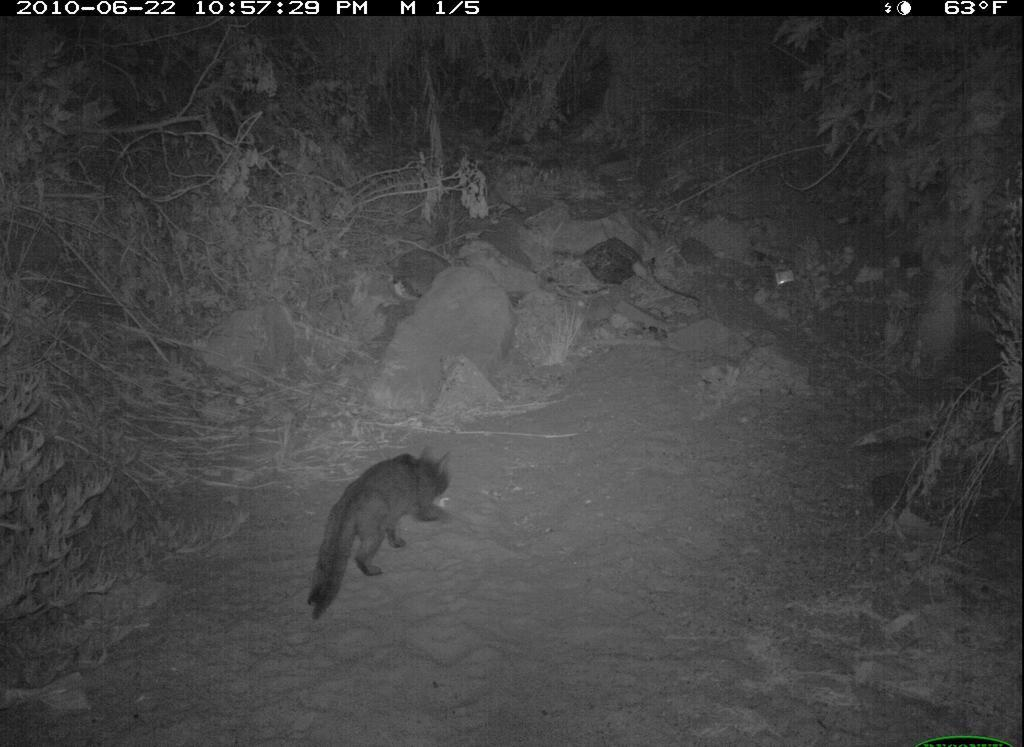cat: (301, 437, 459, 620)
